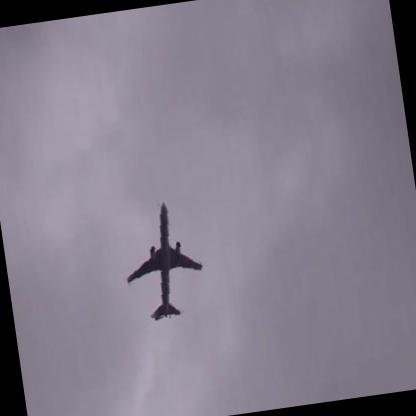plane: (114, 195, 213, 324)
